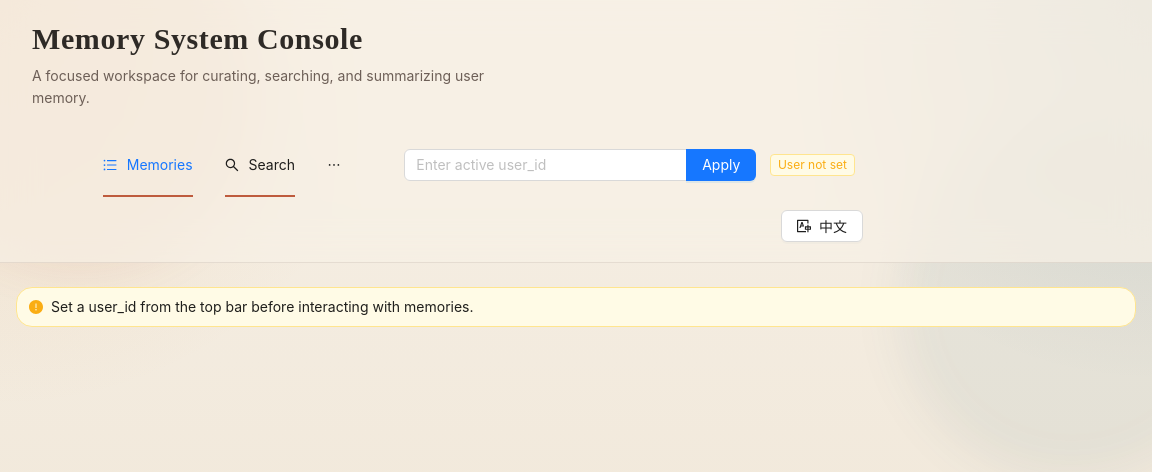
Scenario: AppShell – language toggle button › switches UI to Chinese after clicking the toggle button
This screenshot has width=1152, height=472.
Click the button "中文".
click(822, 226)  # box [781,210,863,242]
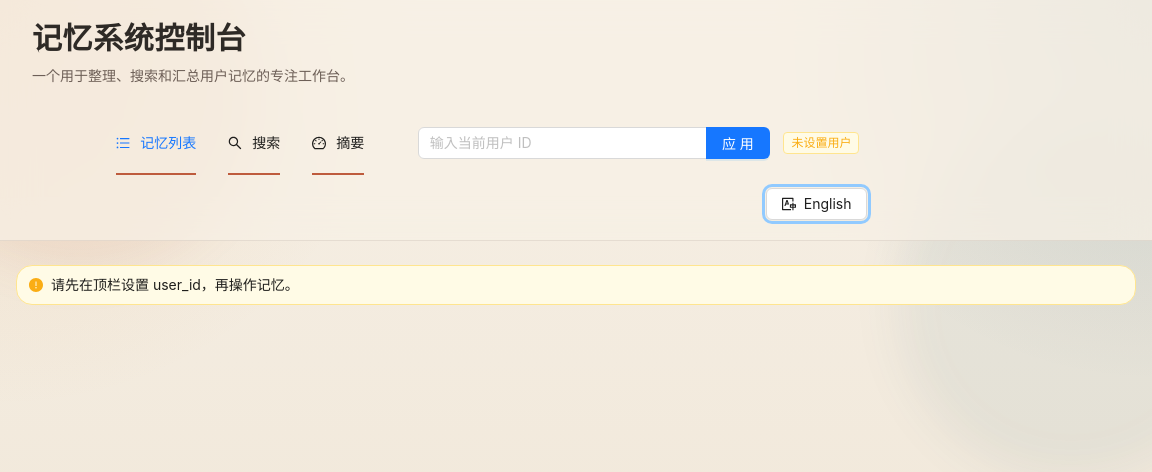
Now the button "English" is shown, box [766,188,867,220]
Now the text "记忆列表" is shown, box [140,134,196,151]
Now the text "搜索" is shown, box [252,134,280,151]
